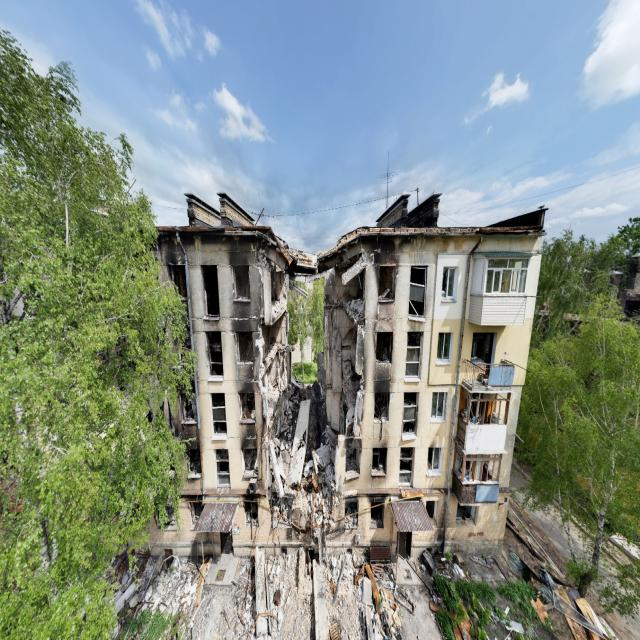broken_window: (200, 264, 220, 320), (408, 266, 427, 319), (404, 330, 422, 380), (205, 330, 223, 379), (231, 264, 251, 302), (378, 264, 395, 302), (441, 265, 456, 302), (430, 391, 447, 422), (436, 332, 452, 364)
building: (317, 191, 548, 564)
